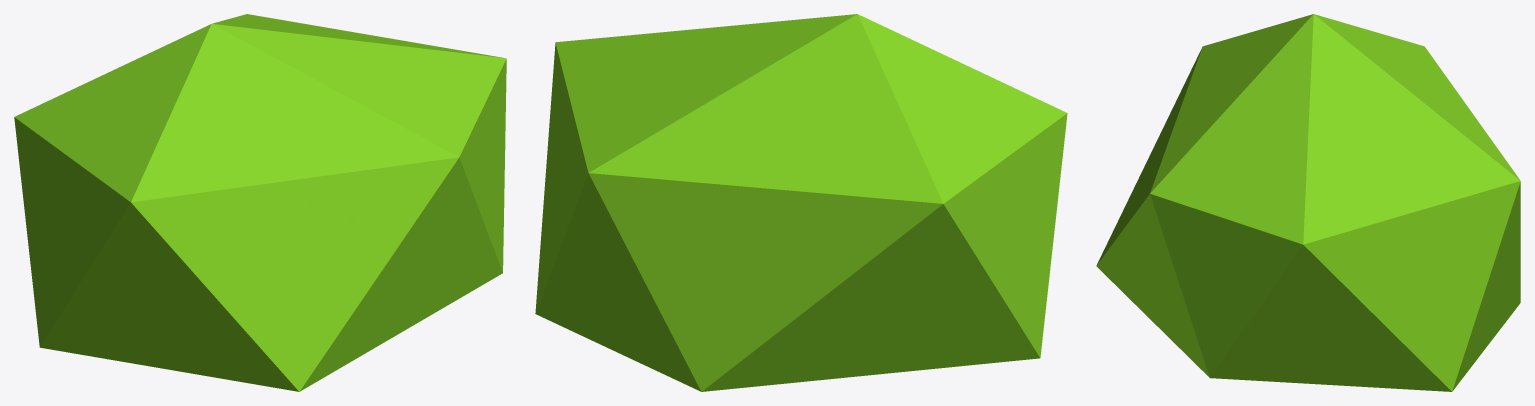
The model's file is bush.glb.
The picture shows the model from 3 angles, left to right: view 1: azimuth 30°, elevation 25°; view 2: azimuth 150°, elevation 25°; view 3: azimuth 270°, elevation 25°; orthographic projection. The views are drawn at different scales.
Parts seen in each view (by area): view 1: Icosphere; view 2: Icosphere; view 3: Icosphere.
Part boxes in pixels (bbox=[...]): Icosphere: bbox=[14, 14, 506, 391]; Icosphere: bbox=[535, 14, 1067, 391]; Icosphere: bbox=[1096, 14, 1520, 391].
Bounding box in the file's own units: 4.1 × 2.42 × 3.44.
Materials: 1 (1 with a texture image).
